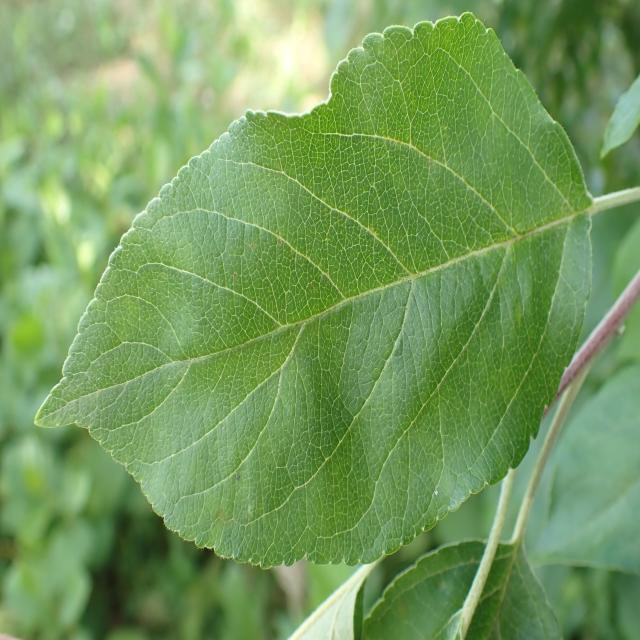healthy: (33, 11, 593, 570), (360, 537, 562, 640)
